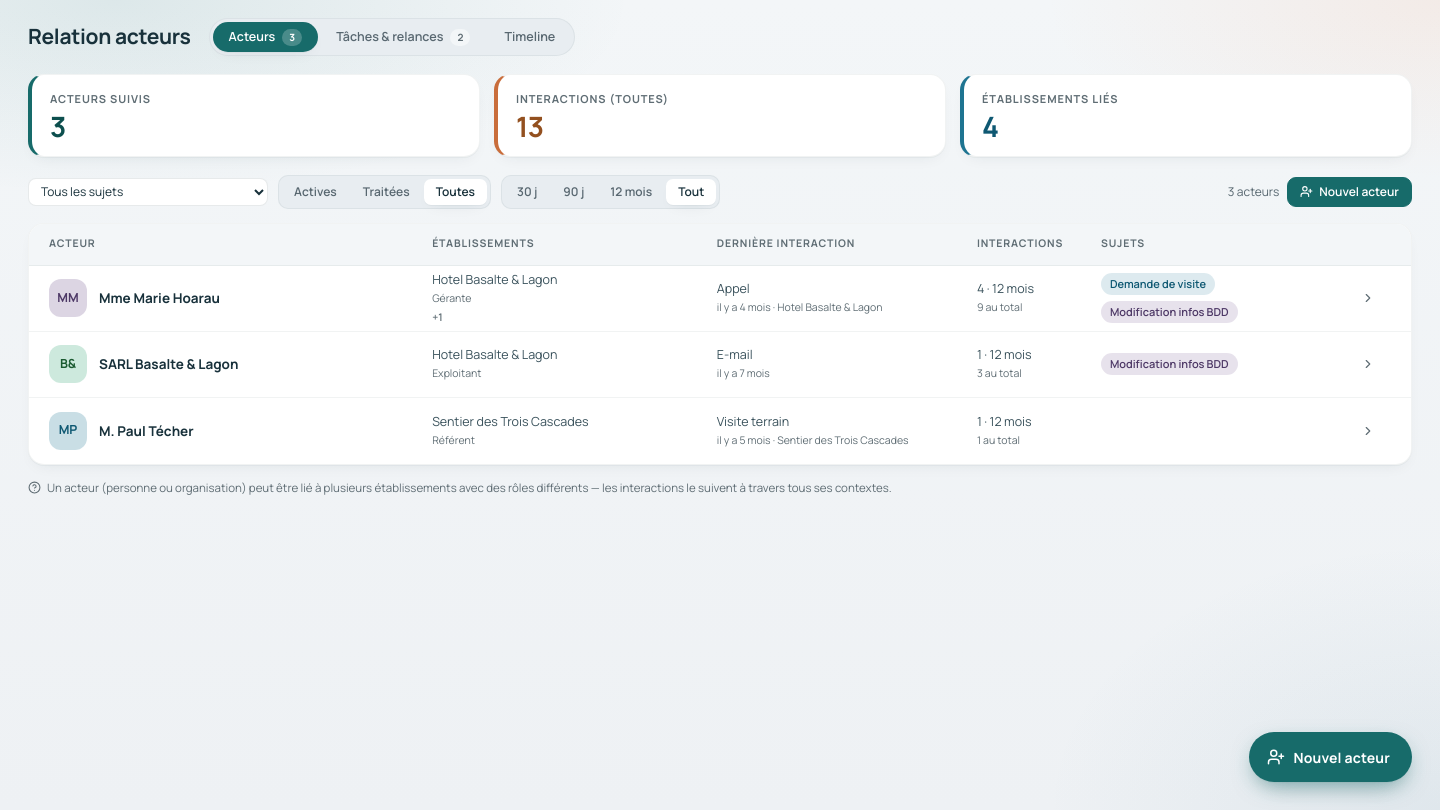
Test: CrmPage (§61 — shell acteur-centré) › persiste la navigation dans localStorage bertel-crm-nav-v2 et la restaure
Expected: the text "Mme Marie Hoarau" is shown, [99, 288, 220, 308]
Click the button "Tâches & relances 2".
click(403, 37)  # box [320, 22, 486, 52]
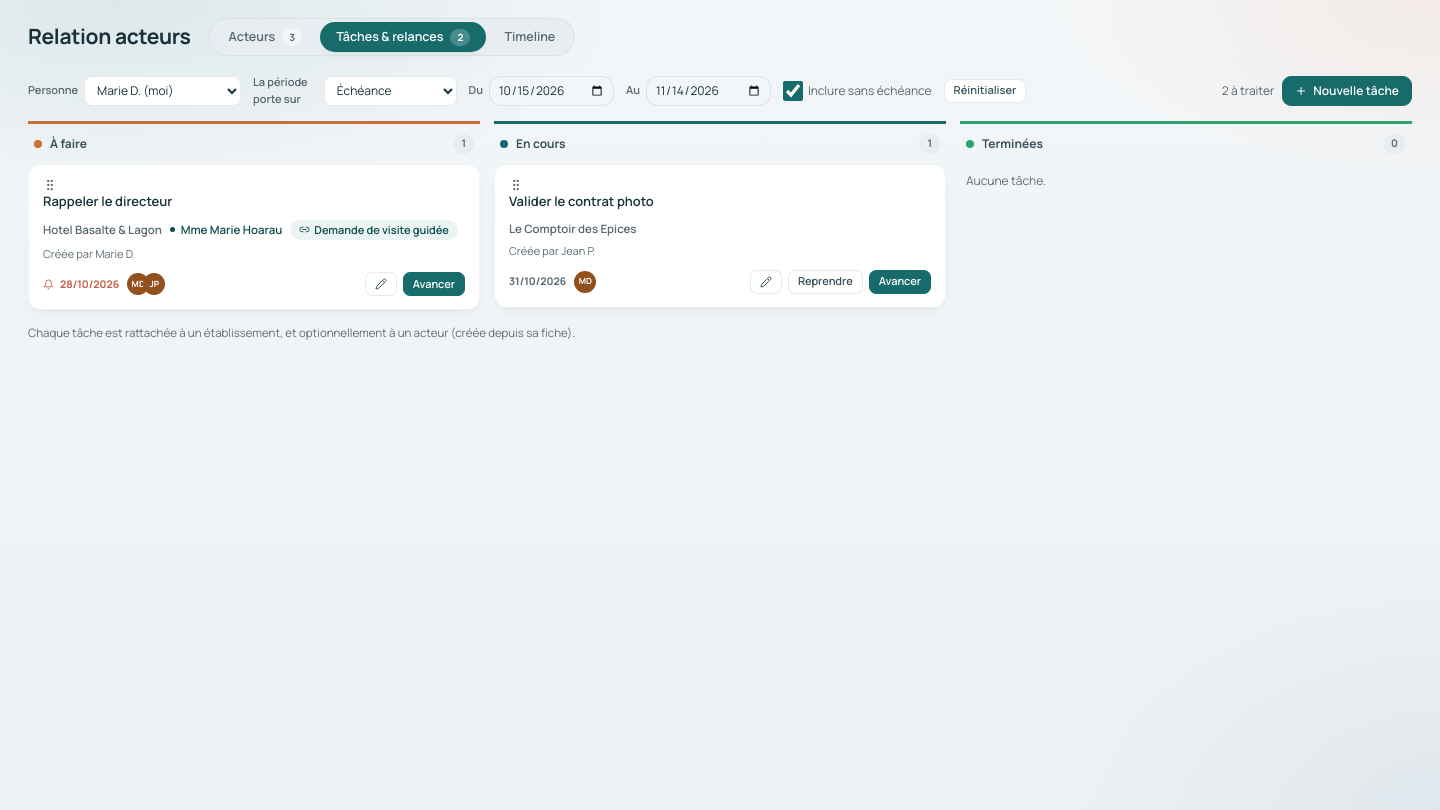
Now the text "Rappeler le directeur" is shown, box [43, 192, 172, 210]
